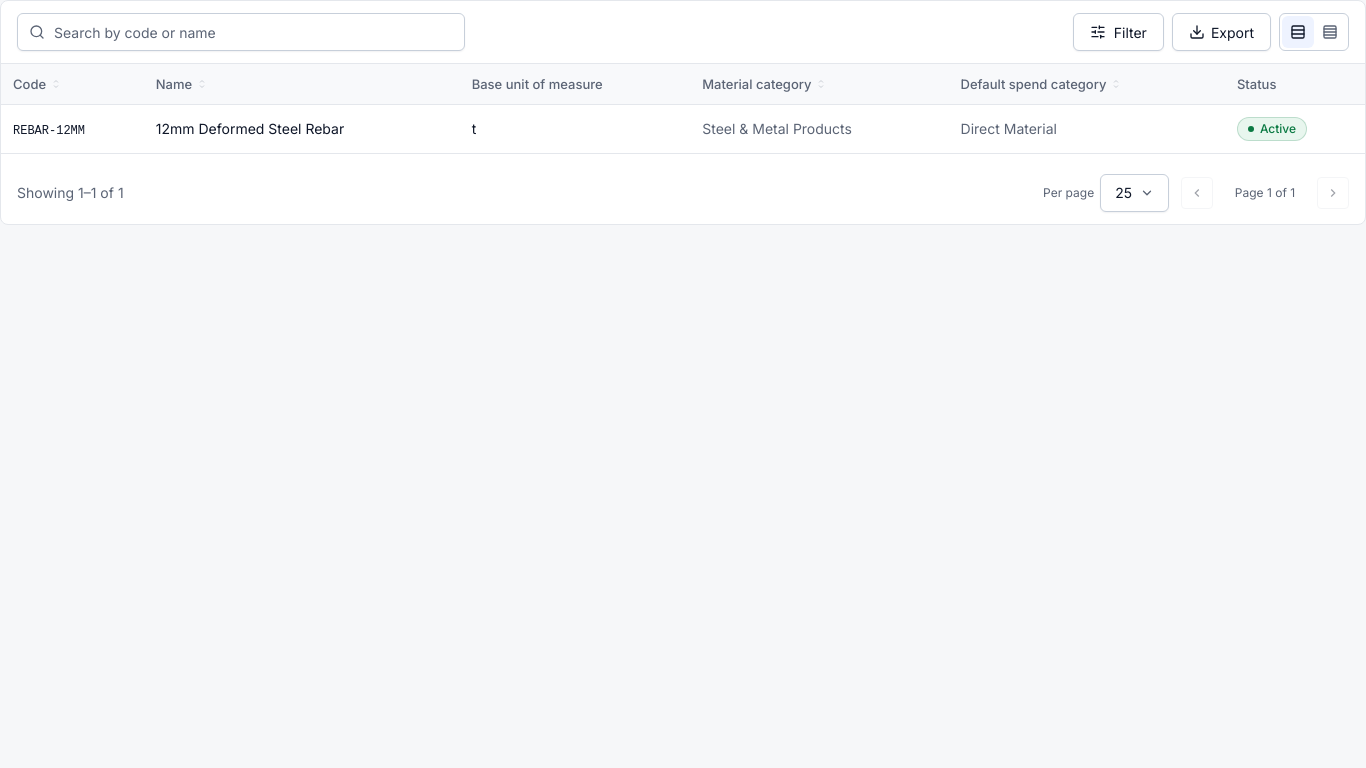
Test: MaterialsList › offers Active, Inactive and All in the status filter — no separate "Any"
The image size is (1366, 768).
What coordinates should you click on to do the following:
click the button "Filter"
I would click on:
 (1118, 32)
Its box is [1073,13,1164,51].
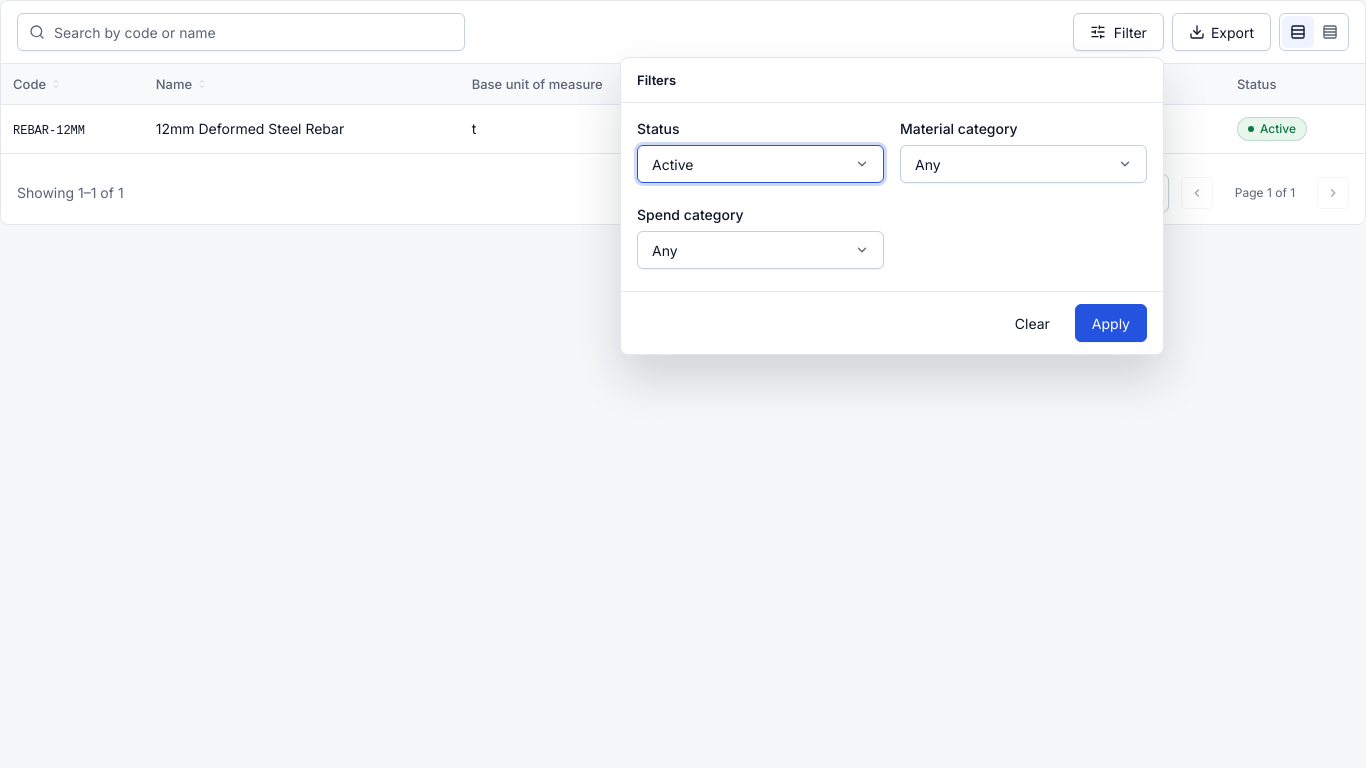
What coordinates should you click on to do the following:
click the dropdown named "Status"
I would click on:
 (760, 164)
Its box is [637,145,884,183].
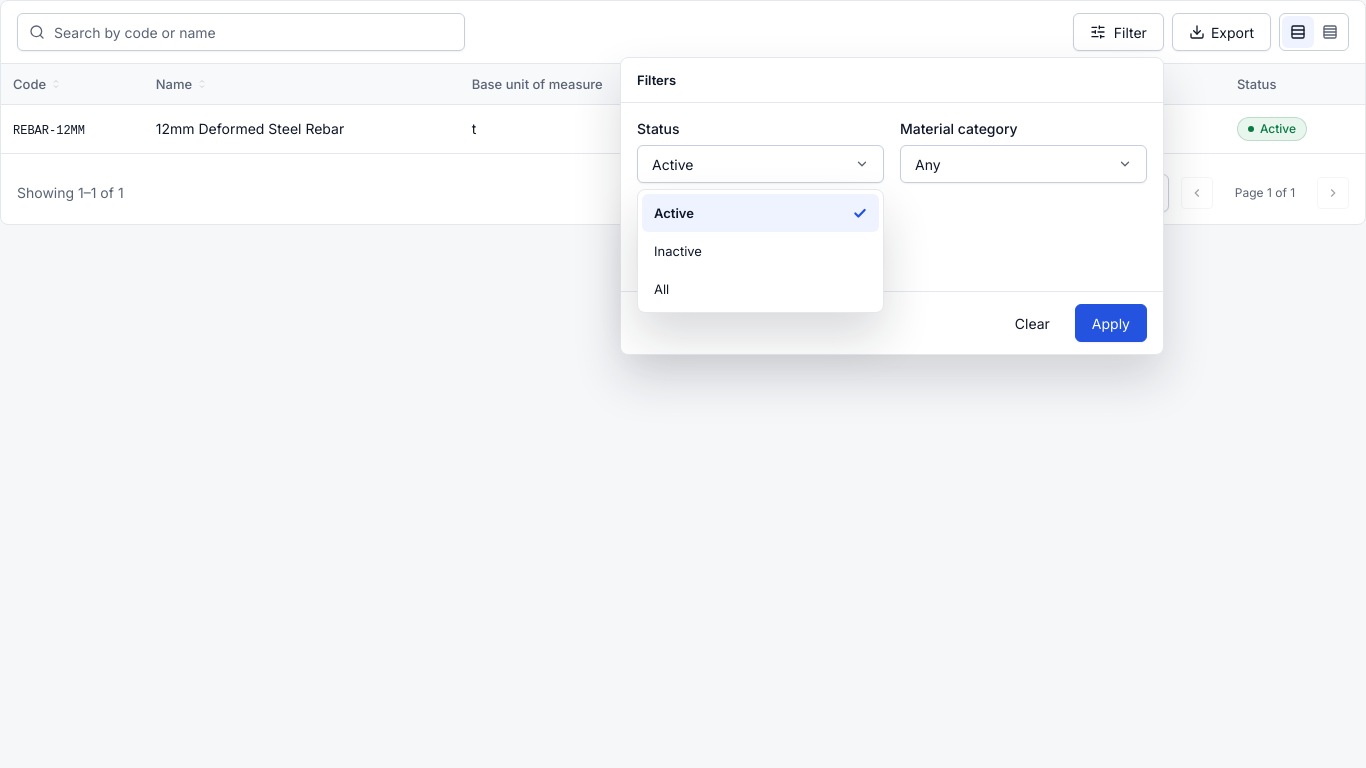
expect the list is shown: met, box [637,189,884,313]
expect the options read "Active", "Inactive", "All", in this order: met, box [642,194,879,232]; [654,243,702,259]; [654,281,669,297]
